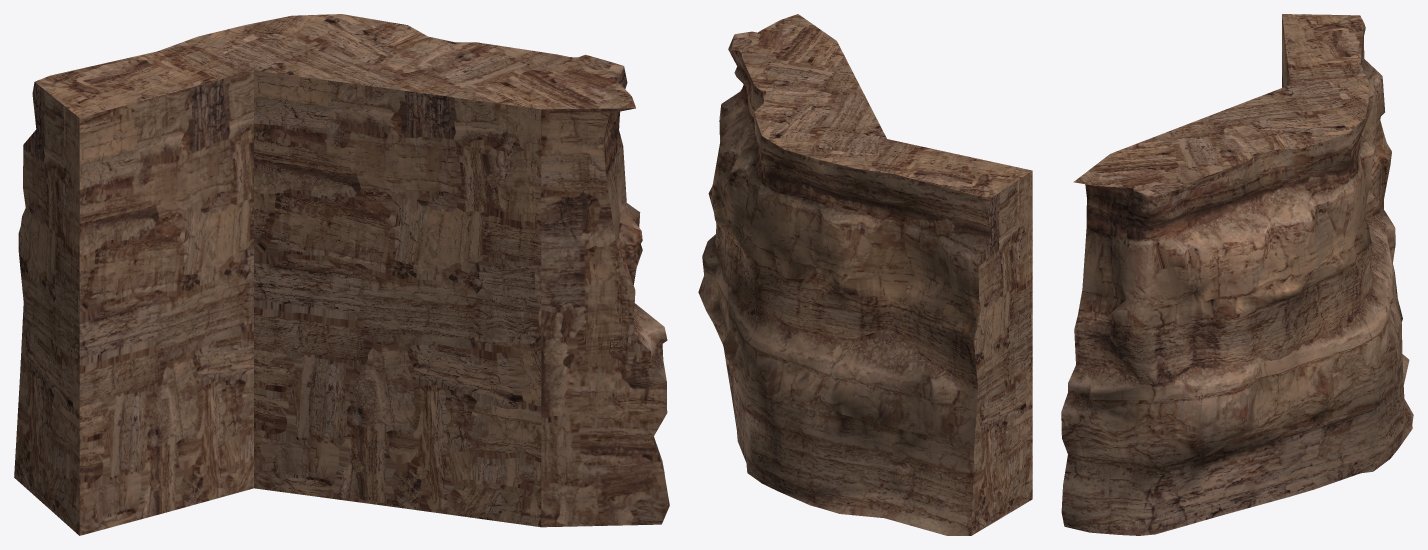
File: Mesh_Cliff_Corner_04_AU.fbx
3 views of the same model, side by side, from view 1: azimuth 30°, elevation 25°; view 2: azimuth 150°, elevation 25°; view 3: azimuth 270°, elevation 25° (orthographic). The views are drawn at different scales.
Visible parts, largest first — view 1: Mesh_Cliff_Corner_04_AU; view 2: Mesh_Cliff_Corner_04_AU; view 3: Mesh_Cliff_Corner_04_AU.
Part boxes in pixels (x1,y1,x2,y2): Mesh_Cliff_Corner_04_AU: (14, 14, 669, 535); Mesh_Cliff_Corner_04_AU: (698, 14, 1032, 535); Mesh_Cliff_Corner_04_AU: (1061, 14, 1413, 535).
Bounding box in the file's own units: 7989 × 6678 × 6322.
